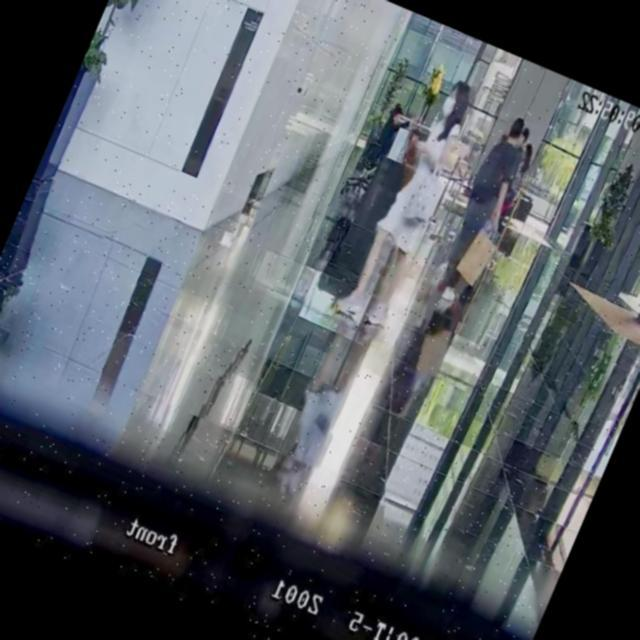person: (329, 68, 485, 335), (424, 109, 538, 309), (486, 126, 542, 225), (369, 101, 408, 162)
